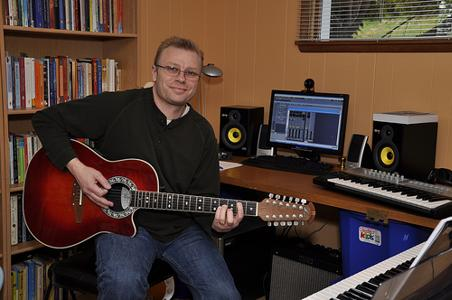person: (31, 37, 245, 300)
